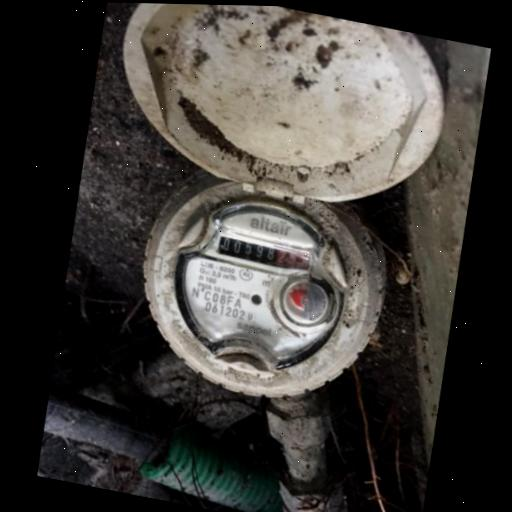0: (216, 235, 234, 255), (228, 238, 244, 258)
2: (274, 249, 289, 269)
5: (238, 240, 255, 261), (285, 251, 300, 270)
8: (262, 245, 279, 267), (296, 253, 311, 270)
9: (250, 242, 268, 263)
border_water_meter_number: (212, 228, 316, 280)
